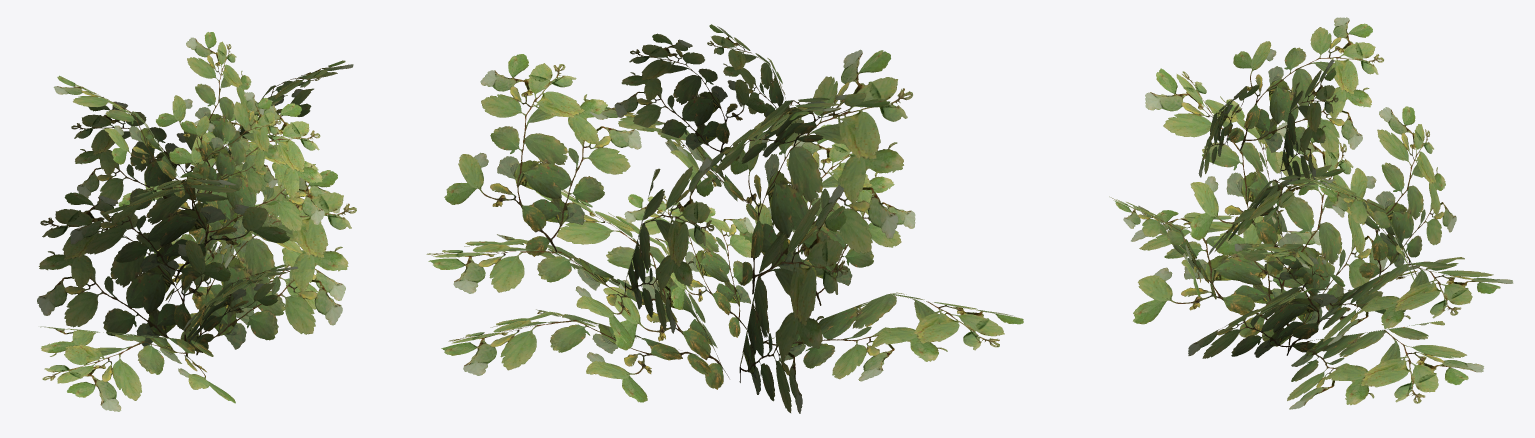
The model's file is bush07_lod01.FBX.
The picture shows the model from 3 angles, left to right: view 1: azimuth 30°, elevation 25°; view 2: azimuth 150°, elevation 25°; view 3: azimuth 270°, elevation 25°; orthographic projection. The views are drawn at different scales.
Parts seen in each view (by area): view 1: bush07_lod01; view 2: bush07_lod01; view 3: bush07_lod01.
Boxes of the visible parts, <box> form: bush07_lod01: <box>37,32,356,411</box>; bush07_lod01: <box>426,24,1023,413</box>; bush07_lod01: <box>1109,17,1513,409</box>.
Size of the model in its own units: 118 by 88.71 by 105.
1 material, 1 textured.
